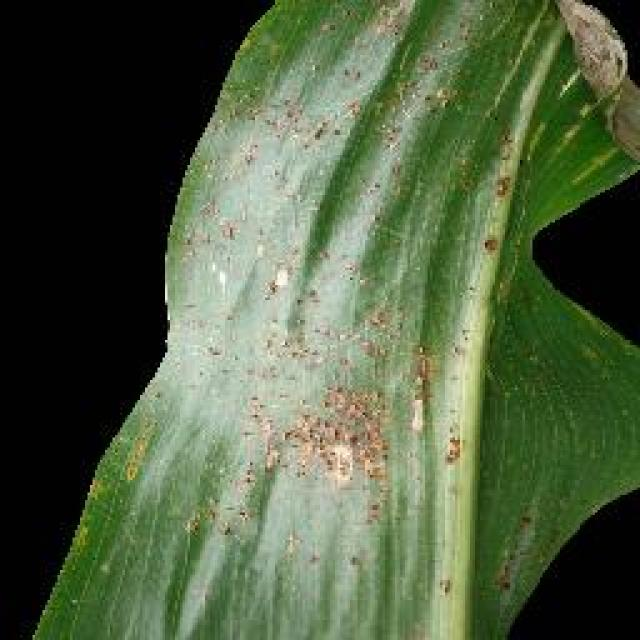Corn Common Rust: (155, 77, 575, 640)
